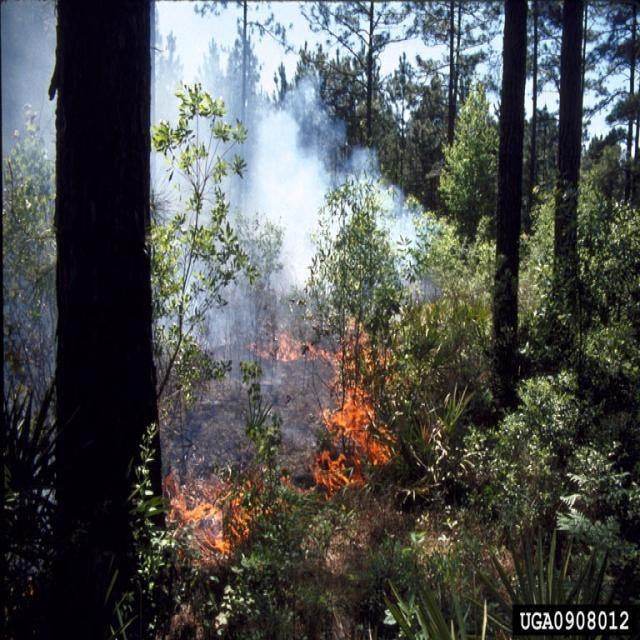Fire: (162, 312, 399, 564)
